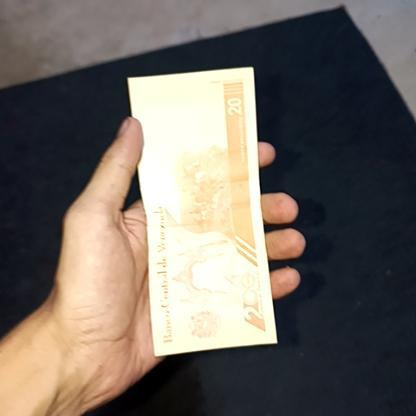twenty-back-vef: (126, 67, 276, 358)
